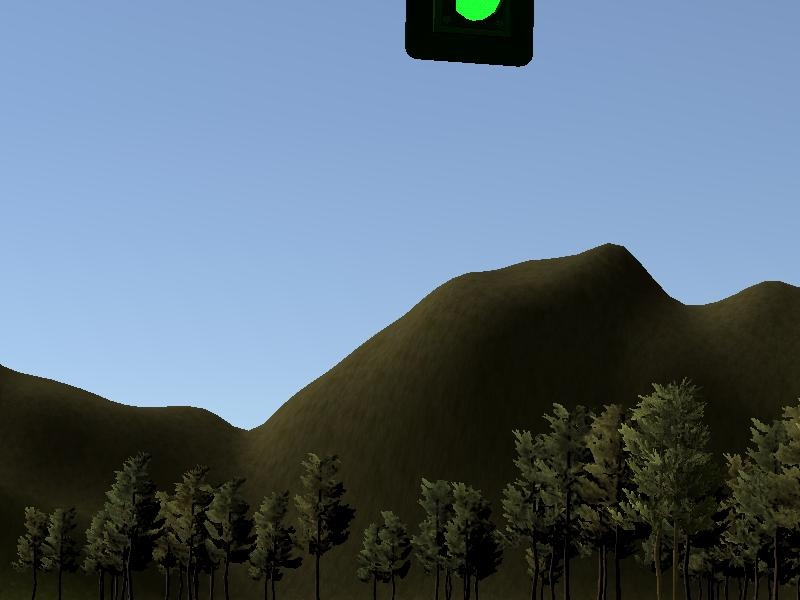traffic_light_green: (1, 1, 792, 80)
